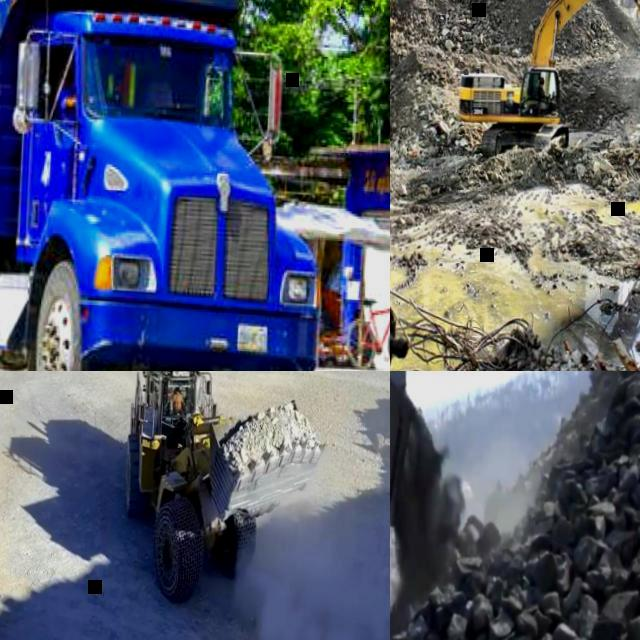machinery: (0, 0, 342, 371), (111, 371, 334, 612), (452, 0, 640, 173), (390, 371, 453, 640)
no_helmet: (174, 388, 180, 393), (540, 76, 544, 82)
no_vest: (173, 396, 182, 411)
person: (169, 388, 187, 412), (538, 74, 550, 98)
